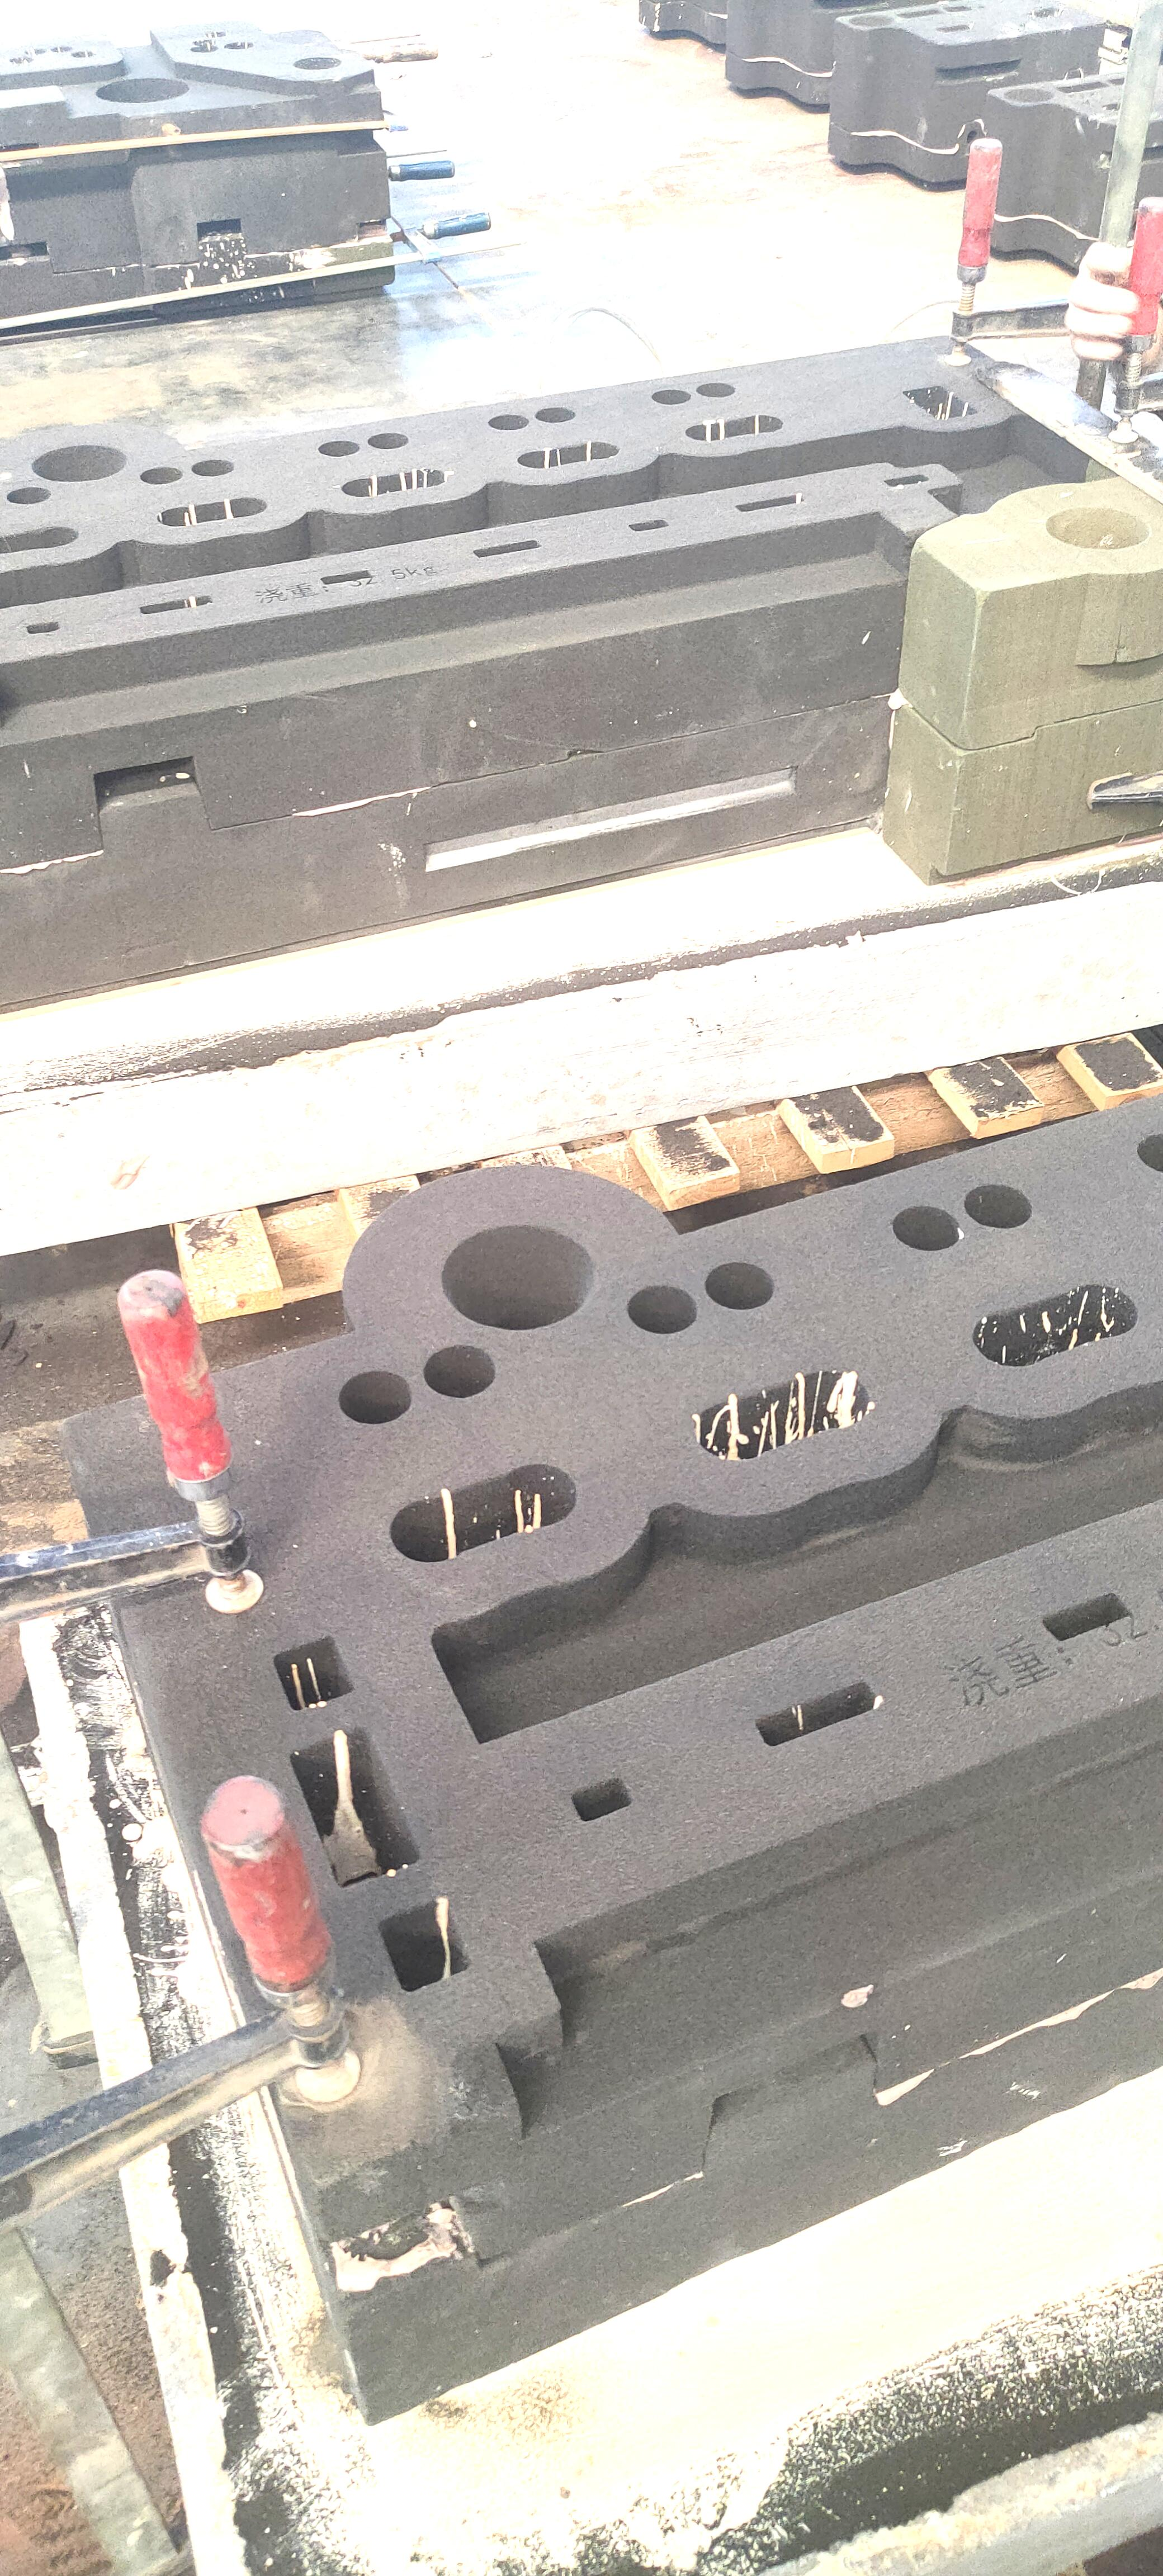pouring hole: (442, 1224, 595, 1331), (1046, 506, 1152, 549), (31, 445, 126, 481), (1002, 85, 1055, 103), (294, 56, 342, 71), (849, 15, 895, 28)
